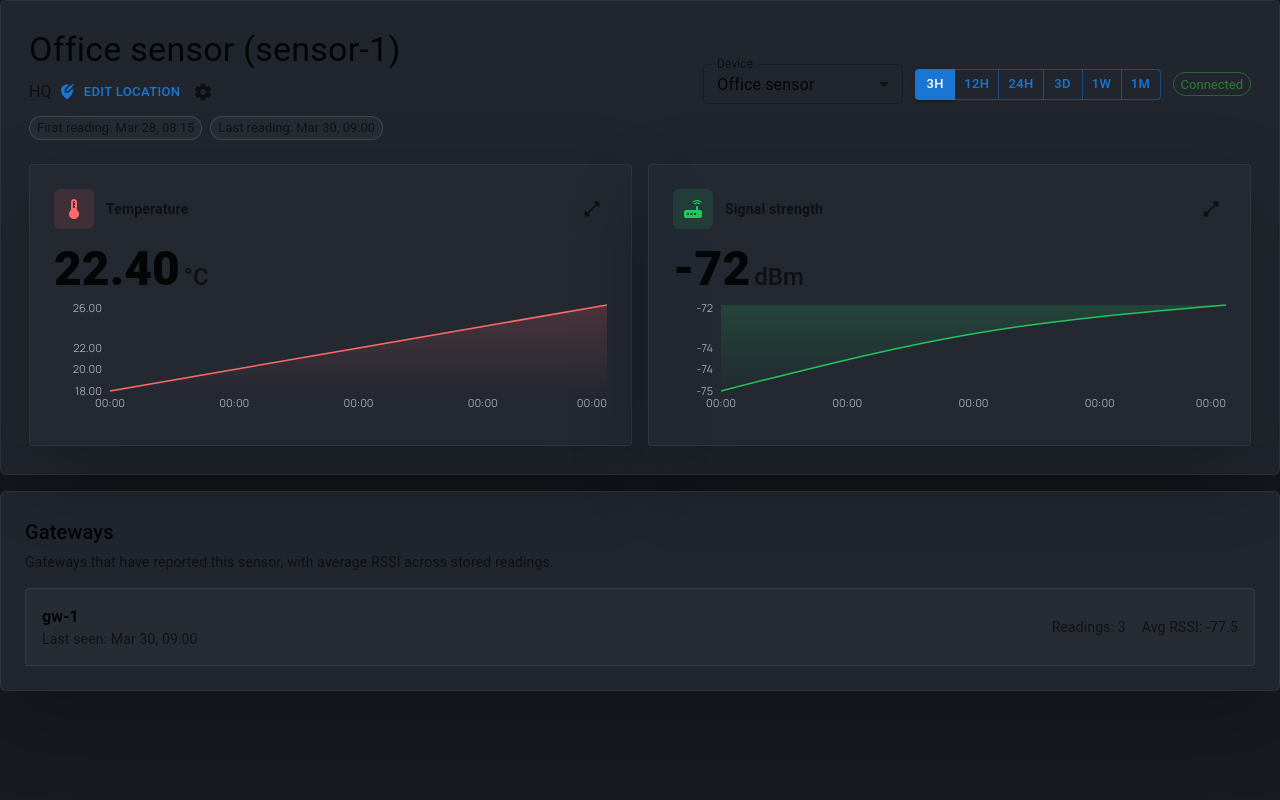
SensorsView › Shall_update_sensor_location_from_live_view
Step 1. Click the button "Edit location" → (120, 92), box x1=60 y1=77 x2=180 y2=108
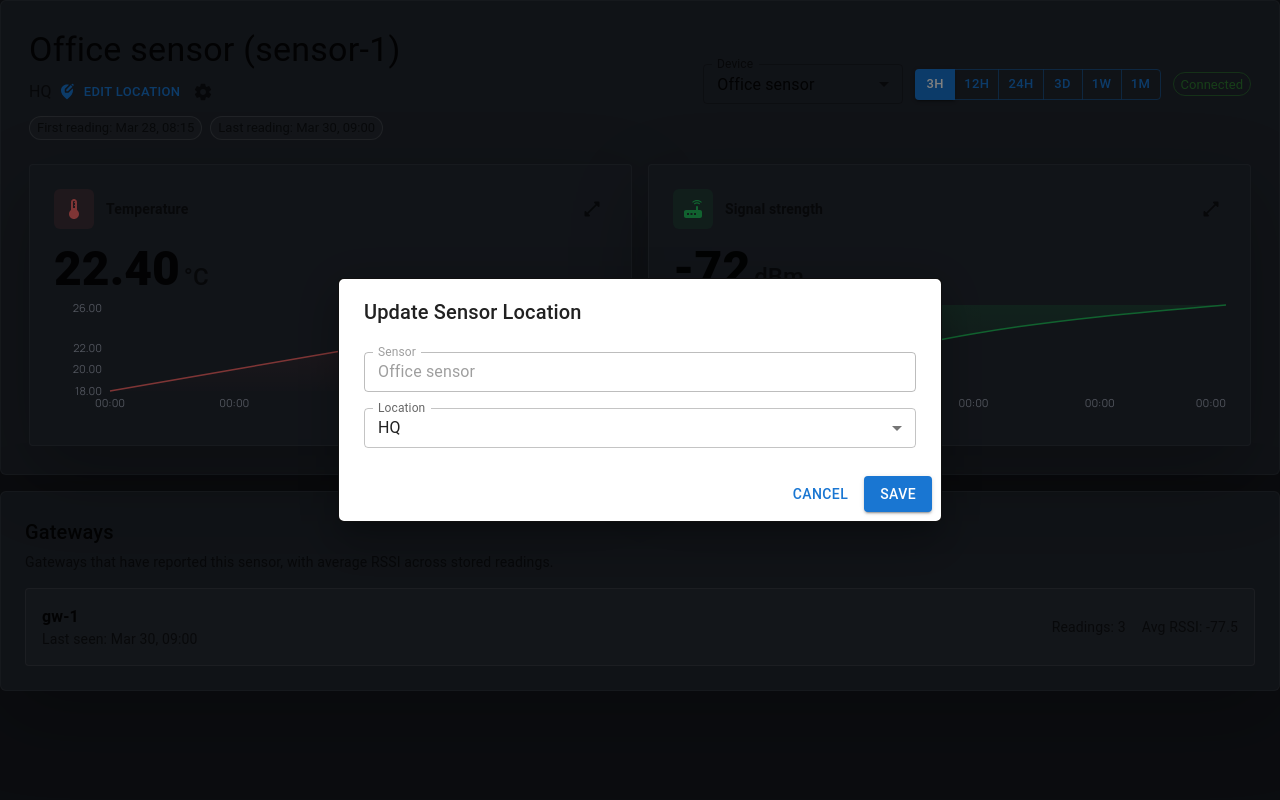
Step 2. Click the dropdown → (389, 428), box x1=378 y1=418 x2=401 y2=437
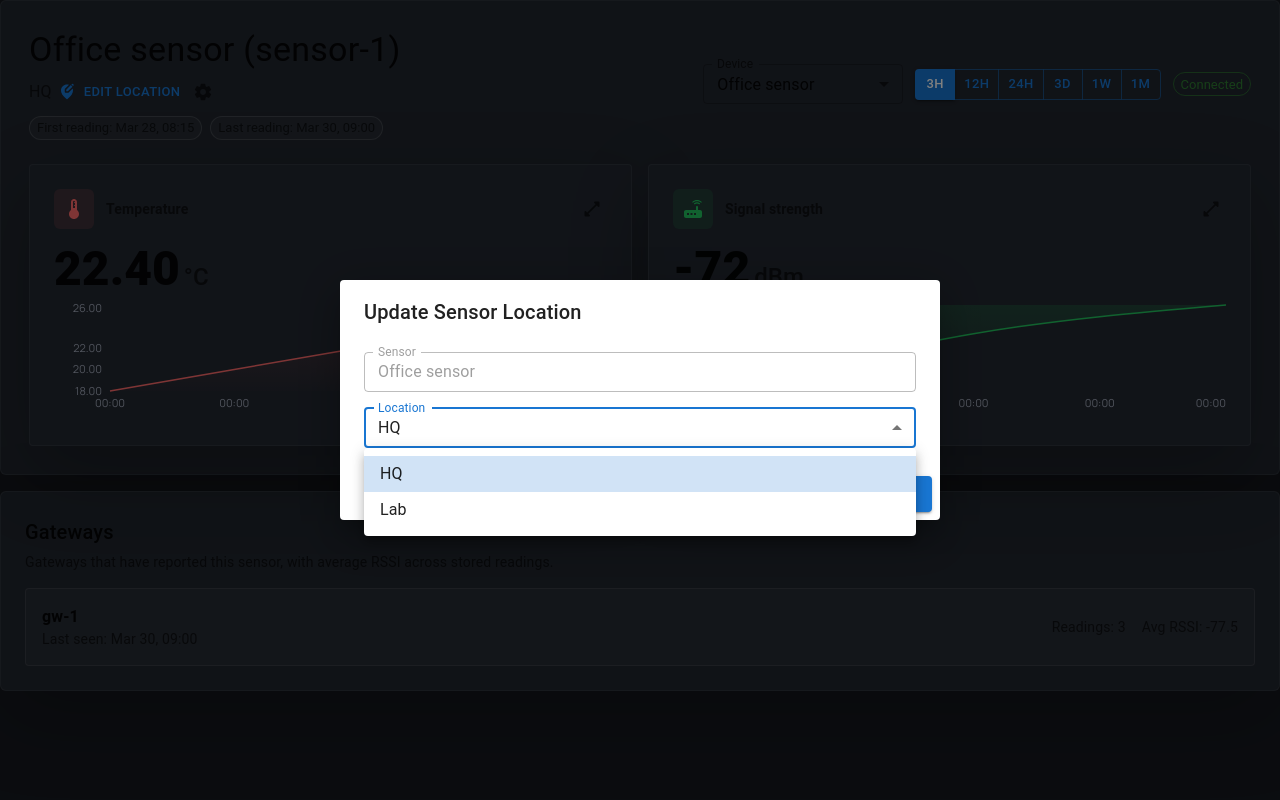
Step 3. Click the option "Lab" → (393, 510), box x1=380 y1=500 x2=407 y2=519
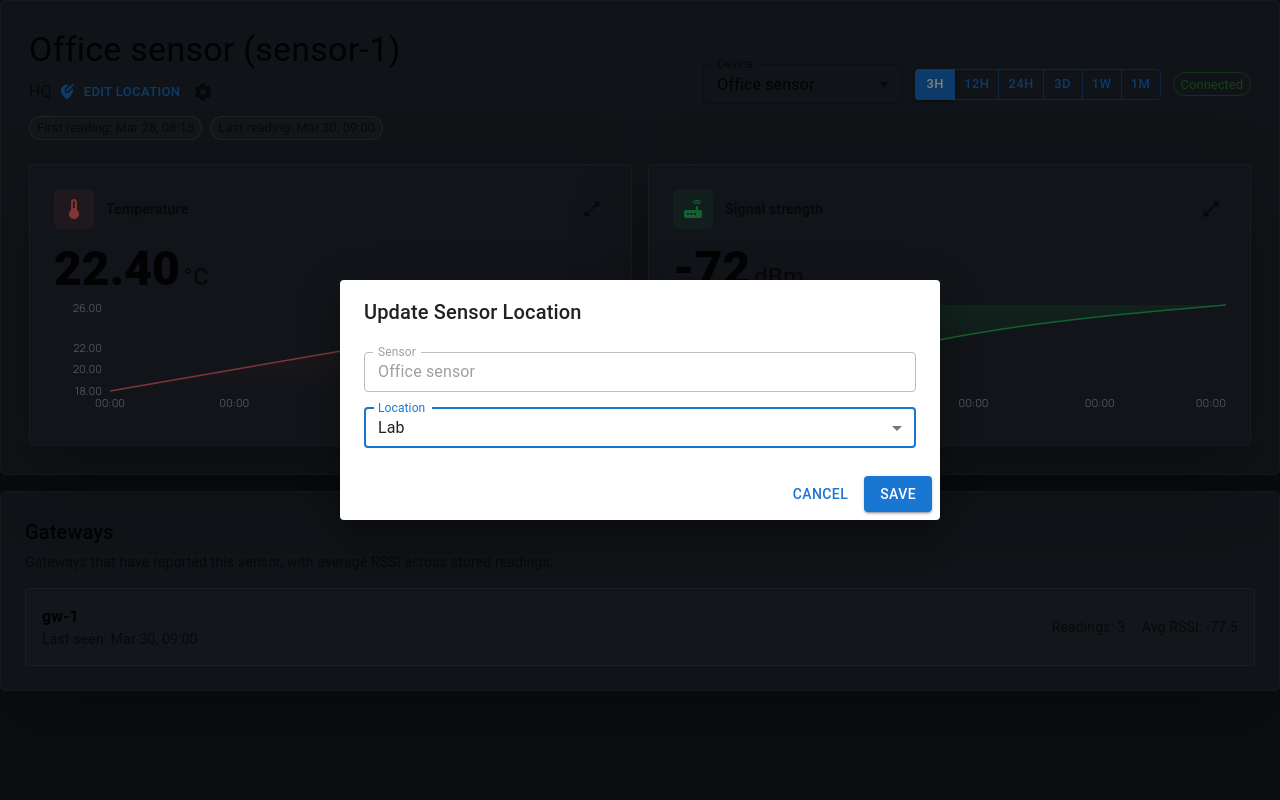
Step 4. Click the button "Save" → (898, 494), box x1=864 y1=476 x2=932 y2=512
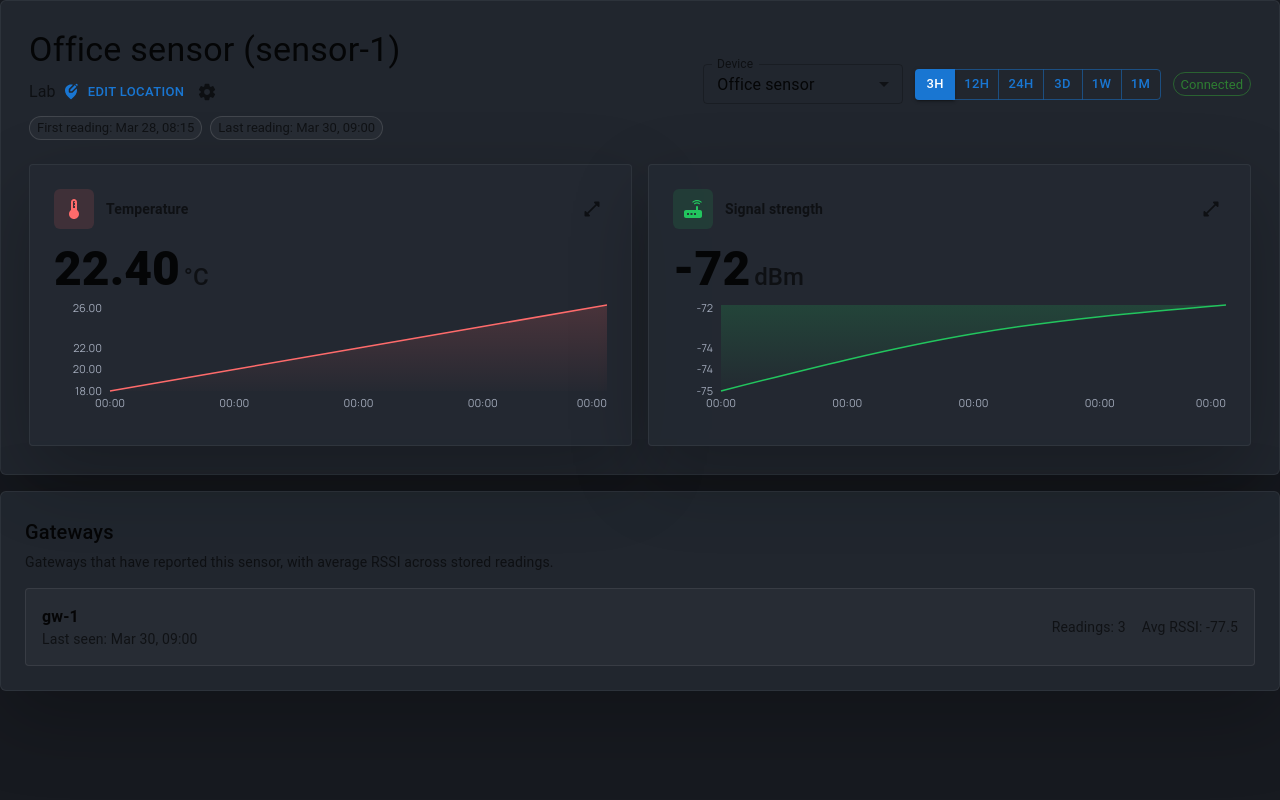
Expected: the text "Lab" is shown, x1=29 y1=80 x2=56 y2=104
